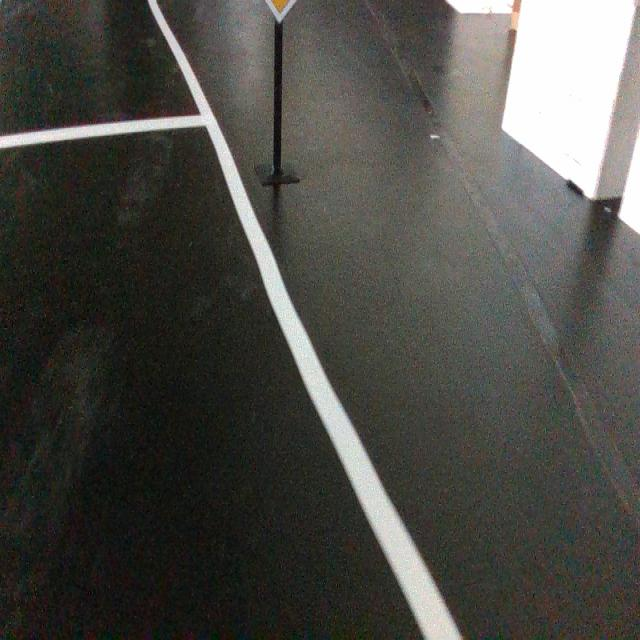priority-sign: (265, 0, 298, 25)
